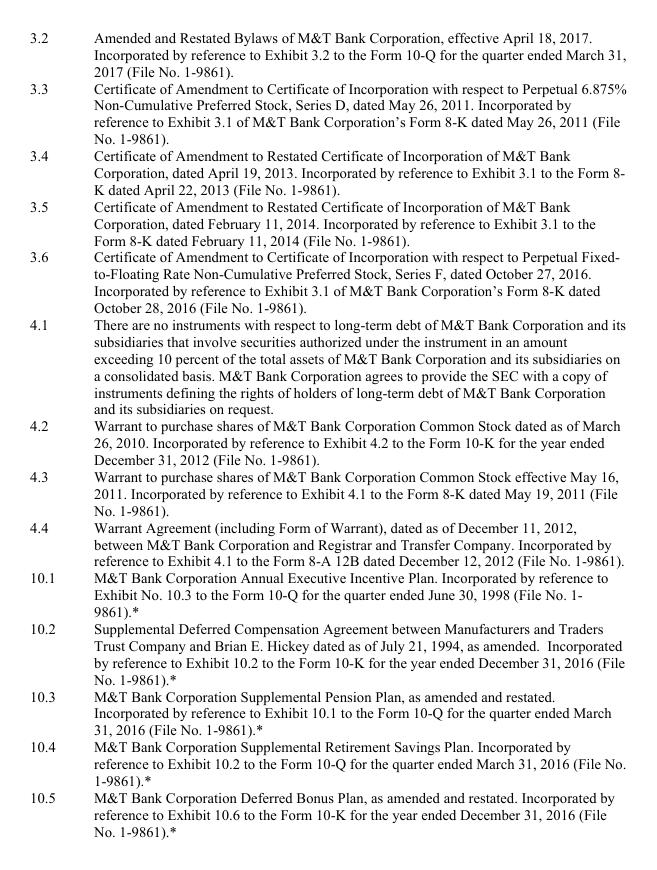table: (29, 28, 625, 838)
table column: (73, 28, 625, 838), (29, 28, 73, 838)
table row: (29, 315, 625, 416), (29, 619, 625, 687), (29, 79, 625, 146), (29, 248, 625, 315), (29, 28, 625, 79), (29, 146, 625, 197), (29, 197, 625, 248), (29, 416, 625, 467), (29, 467, 625, 518), (29, 568, 625, 619), (29, 737, 625, 788), (29, 518, 625, 568), (29, 687, 625, 737), (29, 788, 625, 838)
